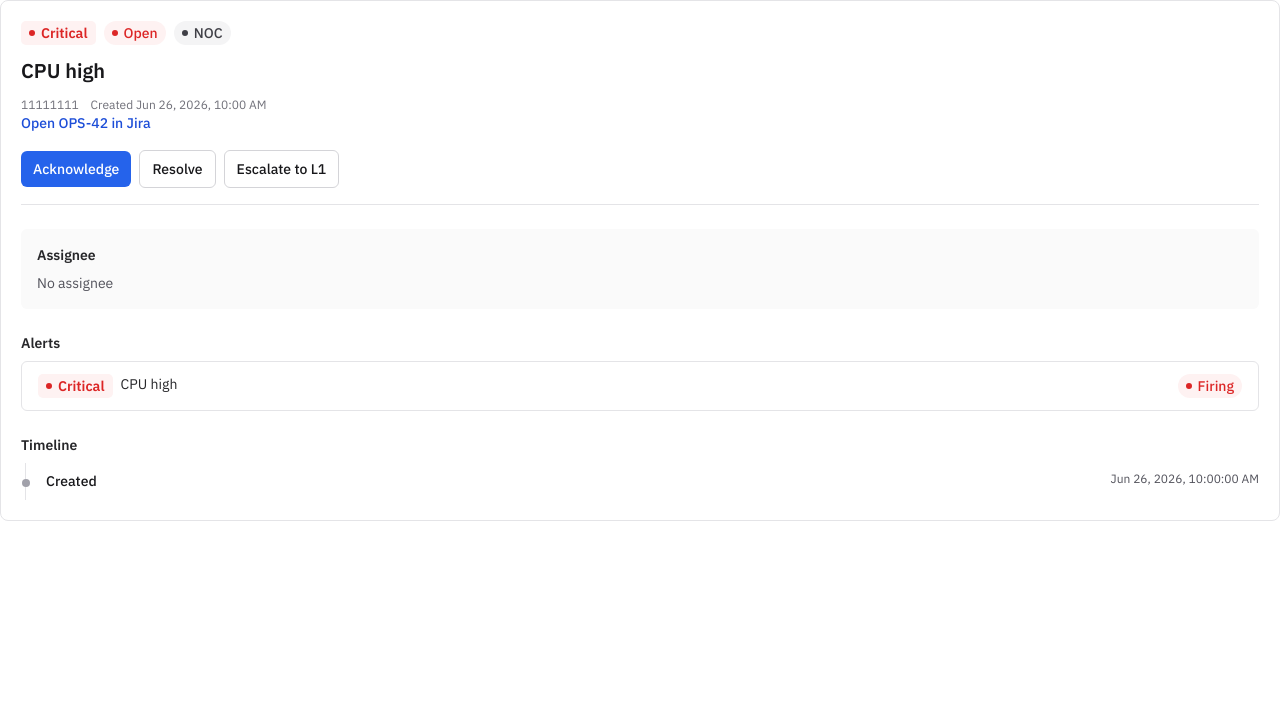
Test: IncidentDetail › shows L1 team label when escalating from NOC
Click the button "Escalate to L1": {"x": 281, "y": 169} [224,150,339,188]
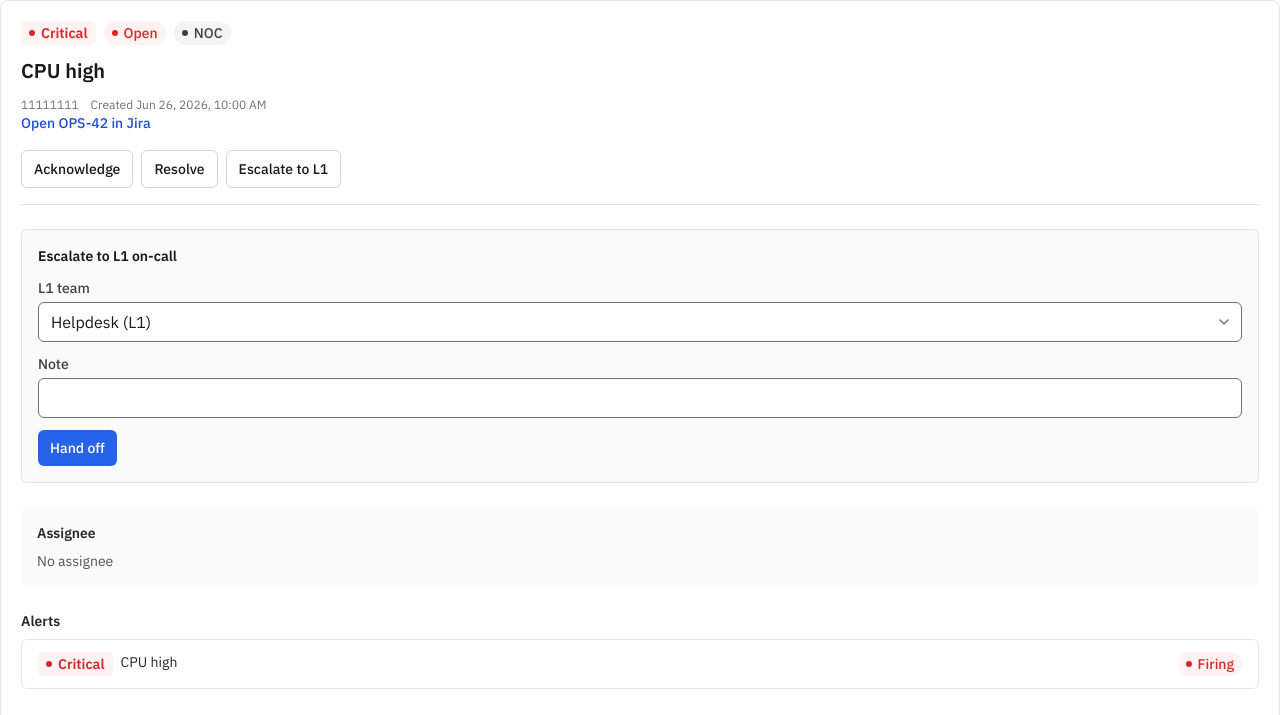
Result: the dropdown labelled "L1 team" is shown at [38,302,1242,342]
